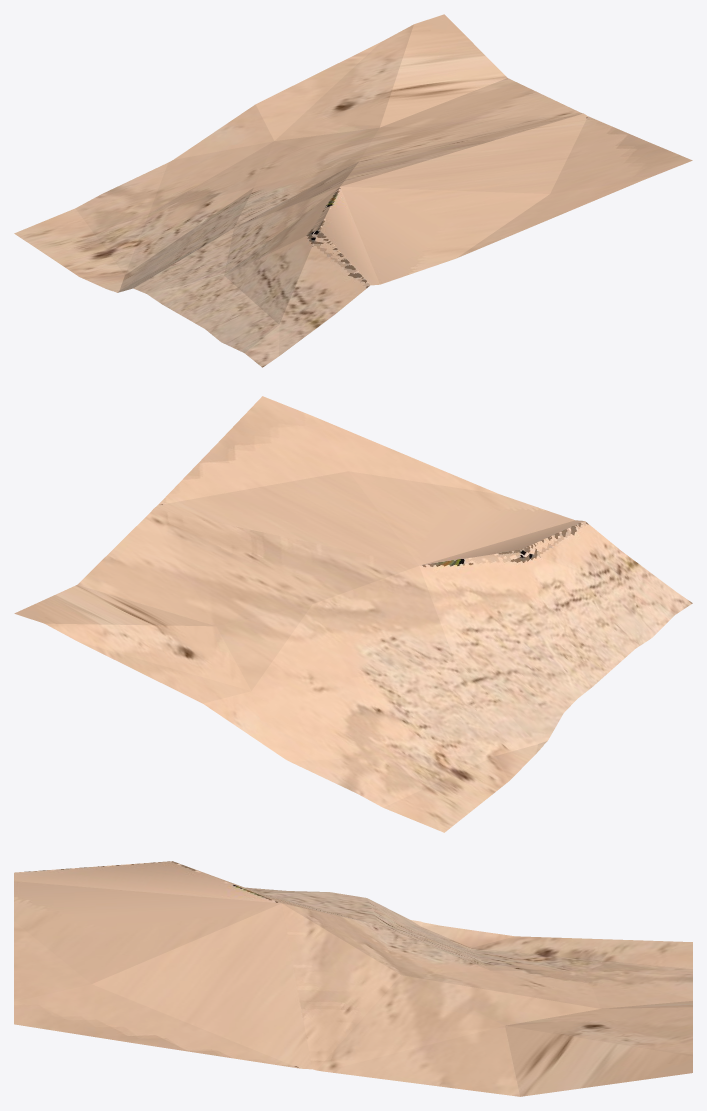
3 views of the same model, one above another, from view 1: azimuth 30°, elevation 25°; view 2: azimuth 150°, elevation 25°; view 3: azimuth 270°, elevation 25° (orthographic). The views are drawn at different scales.
Size of the model in its own units: 1.04 by 0.3475 by 1.04.
2 materials, 2 textured.
